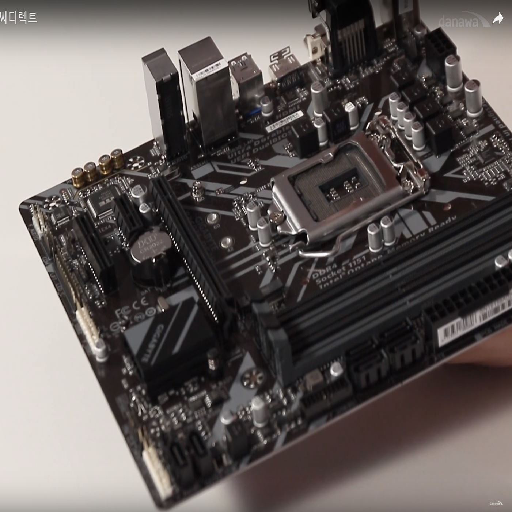CPU: (263, 132, 416, 240)
GPU: (144, 173, 244, 328)
MOTHERBOARD: (14, 5, 512, 501)
RAM: (240, 187, 512, 380)
SSD: (239, 278, 286, 306)
